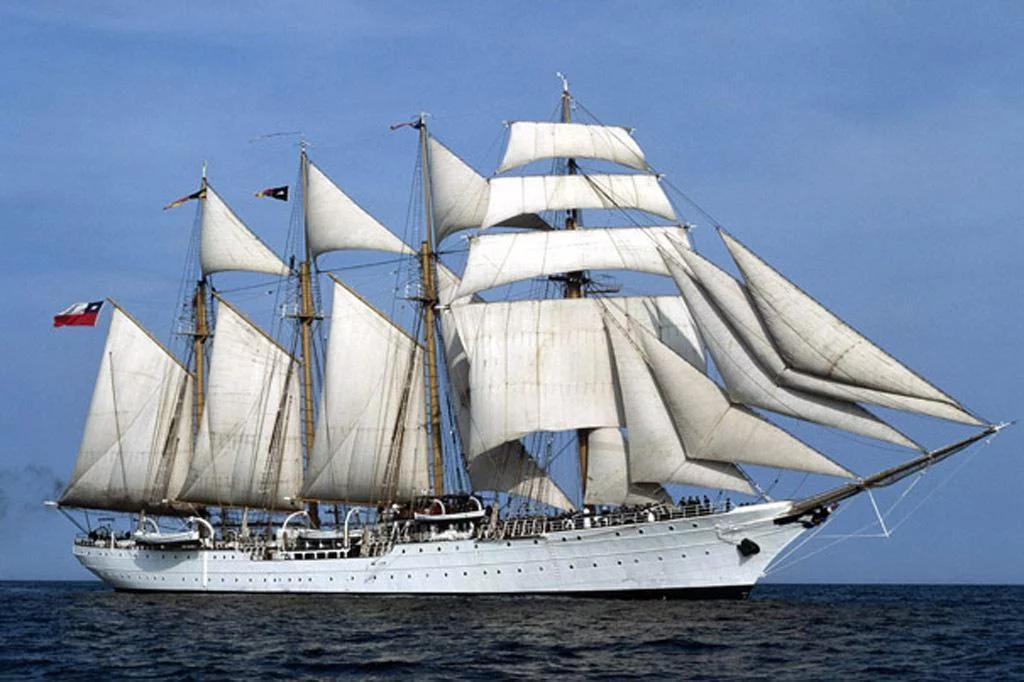fanchuan: (38, 69, 1018, 597)
